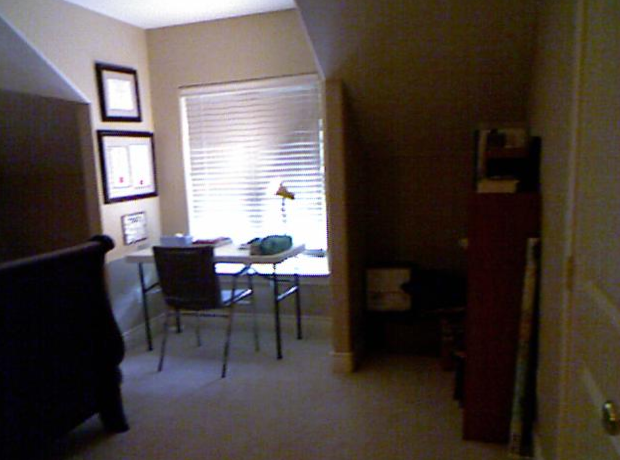chair: (151, 247, 261, 367)
door: (562, 5, 620, 454)
table: (123, 240, 328, 360)
window: (186, 93, 320, 237)
